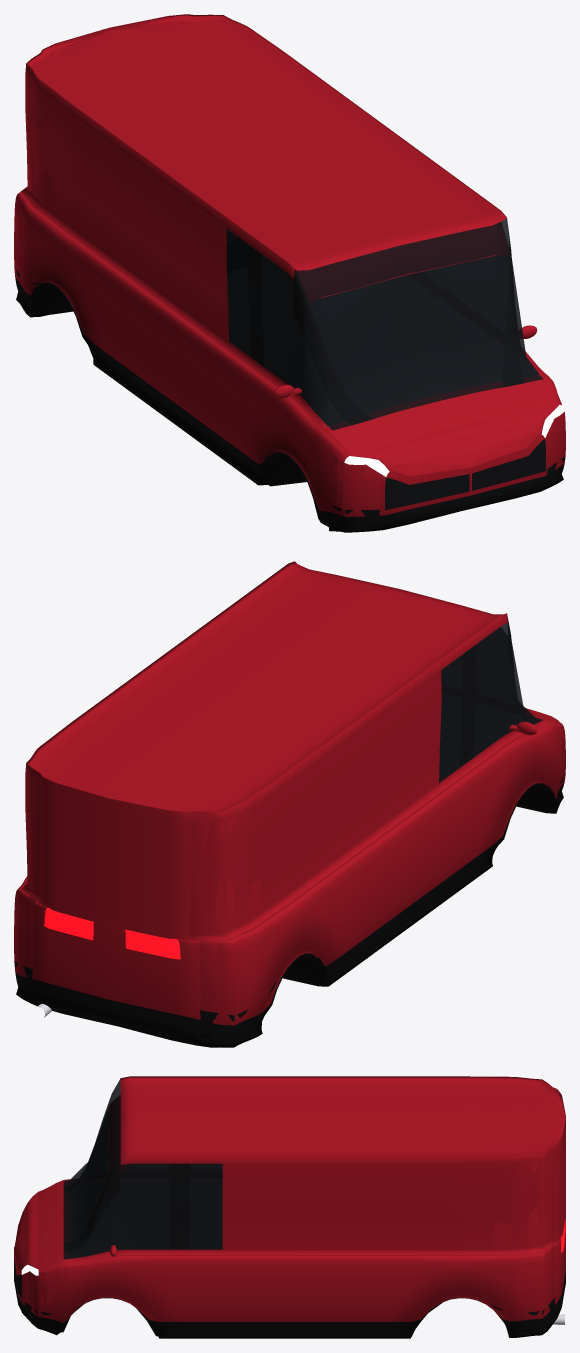
Rendered from van.glb.
The picture shows the model from 3 angles, top to bottom: view 1: azimuth 30°, elevation 25°; view 2: azimuth 150°, elevation 25°; view 3: azimuth 270°, elevation 25°; orthographic projection. The views are drawn at different scales.
Visible parts, largest first — view 1: body (×2), grille; view 2: body (×2), taillights; view 3: body (×2).
Part boxes in pixels (x1,y1,x2,y2): body (×2): [14, 14, 565, 532]; grille: [385, 439, 545, 510]; body (×2): [14, 561, 565, 1047]; taillights: [44, 907, 180, 958]; body (×2): [14, 1076, 565, 1338].
Bounding box in the file's own units: 2.23 × 1.93 × 5.3.
